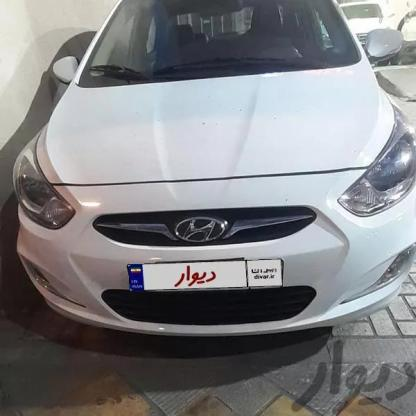Car: (0, 0, 416, 343)
